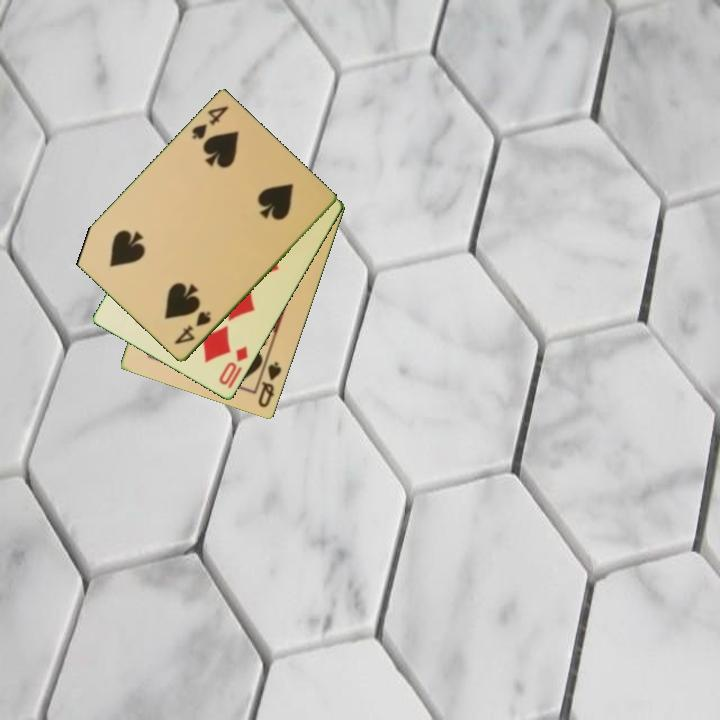10d: (215, 343, 251, 392)
4s: (188, 103, 232, 143), (171, 308, 214, 348)
Qs: (255, 358, 285, 411)
